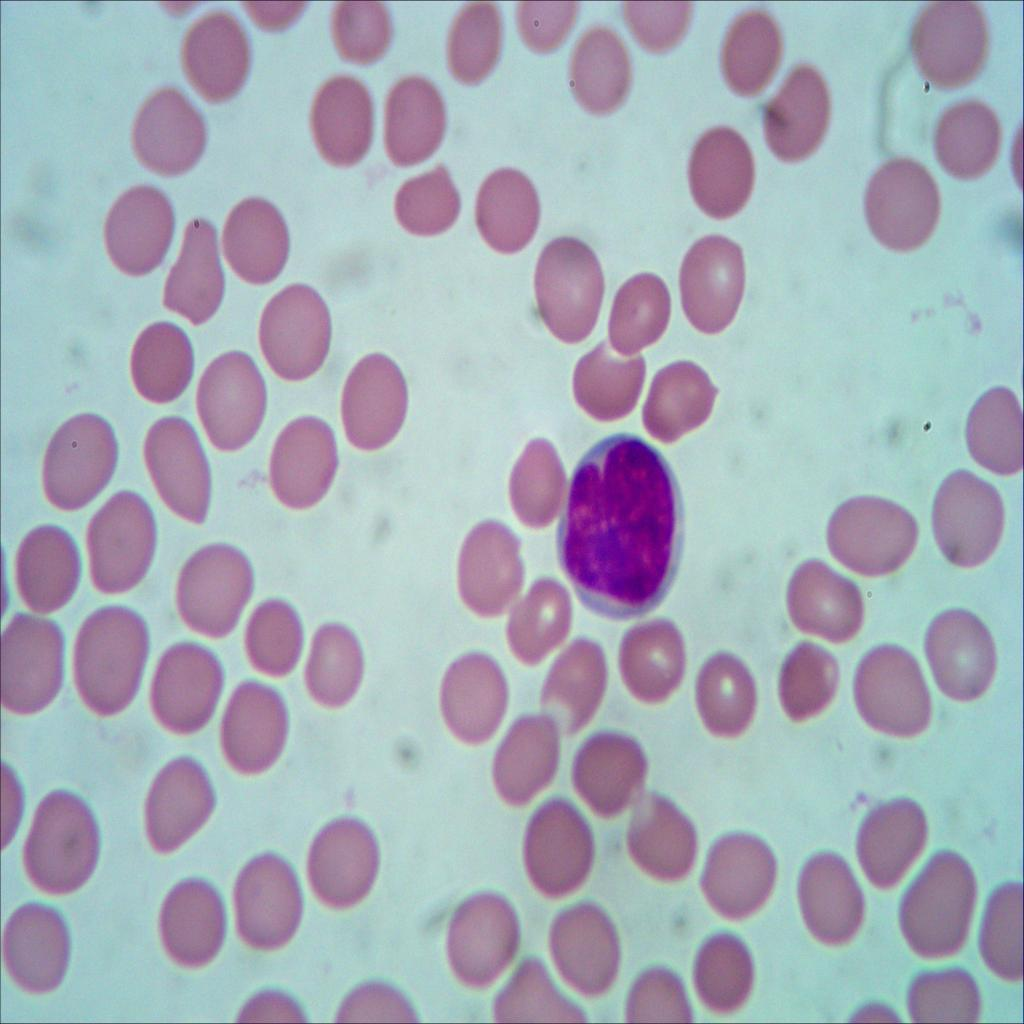Eritrosit: (915, 594, 1006, 722), (692, 823, 790, 934), (516, 790, 607, 908), (849, 636, 943, 750), (756, 54, 843, 176), (16, 787, 109, 899), (526, 230, 611, 350), (339, 335, 418, 463), (926, 464, 1015, 576), (893, 833, 976, 953), (171, 530, 259, 641), (440, 883, 529, 991), (38, 410, 128, 516), (612, 604, 701, 710), (74, 601, 150, 725), (83, 484, 165, 596), (256, 276, 338, 387), (546, 897, 628, 1007), (828, 487, 922, 582), (868, 150, 949, 258), (150, 870, 234, 974), (101, 176, 180, 286), (136, 410, 212, 524), (0, 900, 77, 1012), (567, 716, 655, 814), (195, 347, 271, 460), (674, 228, 750, 340), (172, 11, 258, 108), (157, 204, 230, 318), (148, 639, 226, 745), (790, 846, 868, 952), (261, 412, 342, 514), (690, 640, 766, 748), (124, 89, 212, 182), (926, 94, 1014, 186), (486, 702, 566, 802), (138, 752, 220, 848), (444, 644, 514, 756), (217, 187, 295, 287), (0, 610, 69, 723), (542, 626, 616, 731), (615, 786, 701, 876), (468, 154, 541, 260), (856, 794, 933, 894), (905, 0, 996, 84), (605, 265, 677, 371), (229, 852, 305, 952), (561, 27, 641, 121), (498, 430, 573, 530), (452, 517, 532, 610), (217, 679, 289, 782), (684, 119, 756, 220), (632, 362, 718, 446), (786, 564, 869, 650), (682, 924, 761, 1014), (304, 620, 373, 722), (449, 0, 516, 105), (14, 517, 86, 614), (572, 339, 648, 430), (503, 583, 579, 674), (123, 317, 197, 408), (308, 812, 380, 905), (380, 74, 449, 170), (768, 634, 840, 722), (309, 78, 374, 172), (720, 8, 784, 100), (394, 157, 456, 249), (237, 598, 309, 674), (964, 384, 1024, 474), (901, 961, 983, 1024), (976, 872, 1024, 978), (335, 0, 395, 68)
Limfoblast: (555, 438, 695, 620)
